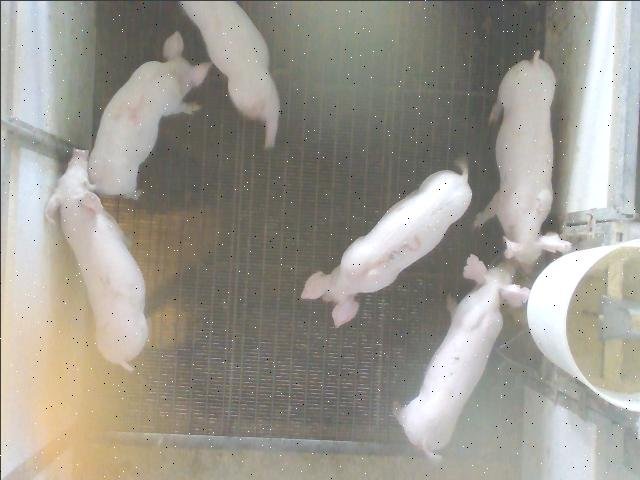pig-3: (300, 162, 471, 326)
pig-4: (88, 31, 210, 198)
